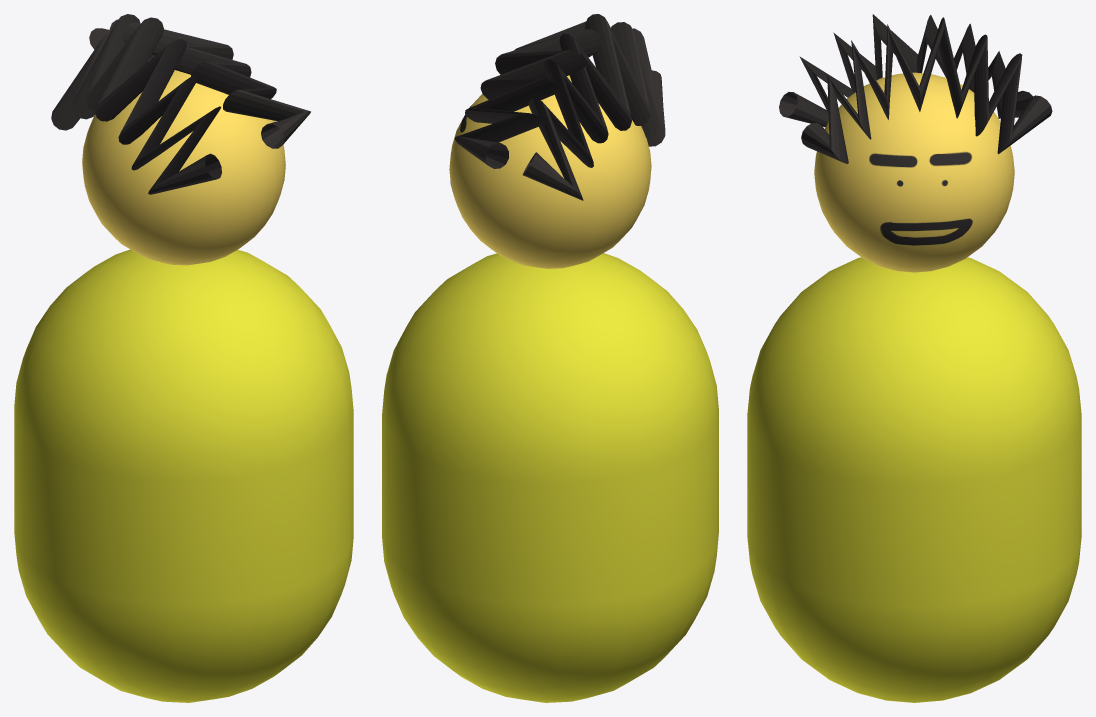
File: cam_people_4.glb
The picture shows the model from 3 angles, left to right: view 1: azimuth 30°, elevation 25°; view 2: azimuth 150°, elevation 25°; view 3: azimuth 270°, elevation 25°; orthographic projection.
Visible parts, largest first — view 1: Roundcube, Roundcube.006, Vert.001, Vert; view 2: Roundcube, Roundcube.006, Vert.001, Vert; view 3: Roundcube, Roundcube.006, Vert, Vert.001.
Boxes of the visible parts, x1=… form: Roundcube: x1=14, y1=249, x2=353, y2=702; Roundcube.006: x1=82, y1=70, x2=285, y2=265; Vert.001: x1=51, y1=14, x2=221, y2=194; Vert: x1=89, y1=19, x2=310, y2=148; Roundcube: x1=382, y1=253, x2=718, y2=702; Roundcube.006: x1=449, y1=75, x2=651, y2=268; Vert.001: x1=522, y1=14, x2=665, y2=200; Vert: x1=455, y1=21, x2=601, y2=168; Roundcube: x1=747, y1=257, x2=1081, y2=702; Roundcube.006: x1=814, y1=72, x2=1014, y2=272; Vert: x1=801, y1=17, x2=1052, y2=163; Vert.001: x1=779, y1=14, x2=1032, y2=127.
Bounding box in the file's own units: 1 × 2.18 × 1.
Materials: 3 (1 with a texture image).
